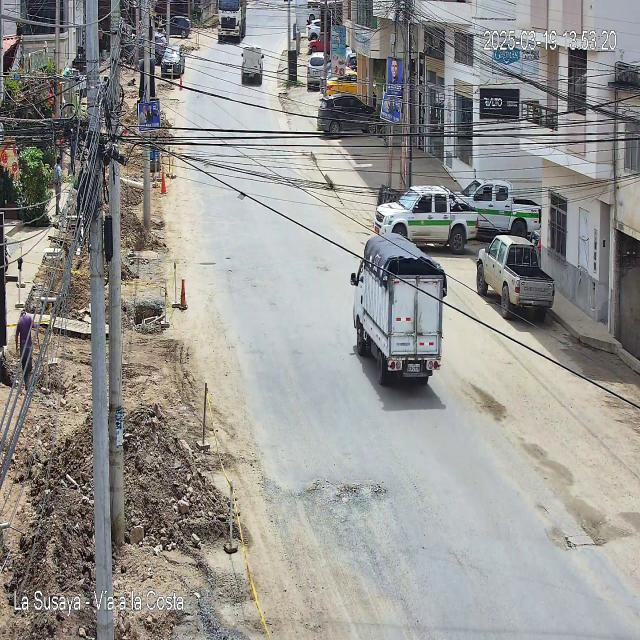CMT: (476, 234, 554, 319)
TRUCK: (351, 235, 447, 385)
